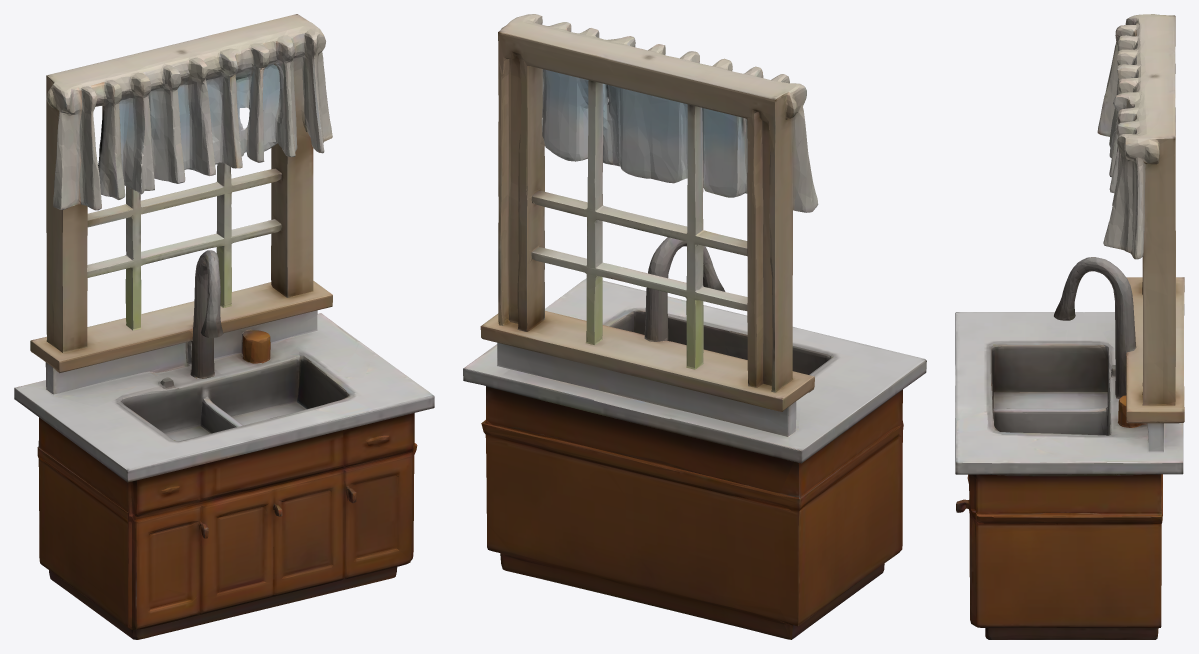
Rendered from sink.glb.
The picture shows the model from 3 angles, left to right: view 1: azimuth 30°, elevation 25°; view 2: azimuth 150°, elevation 25°; view 3: azimuth 270°, elevation 25°; orthographic projection. The views are drawn at different scales.
Visible parts, largest first — view 1: world; view 2: world; view 3: world.
Part boxes in pixels (bbox=[...]): world: bbox=[14, 14, 434, 639]; world: bbox=[463, 14, 926, 639]; world: bbox=[955, 14, 1184, 639].
Bounding box in the file's own units: 0.6478 × 0.9997 × 0.4164.
Materials: 1 (1 with a texture image).
